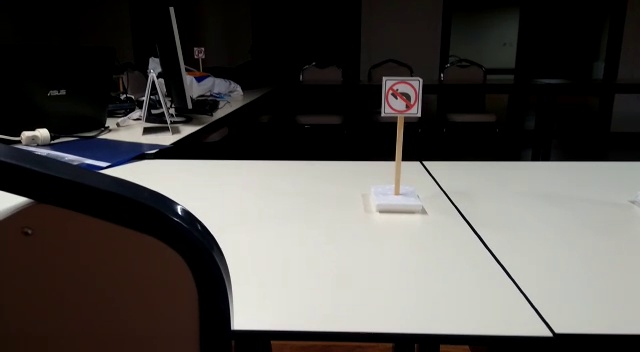sola_donulmez: (379, 75, 424, 117)
